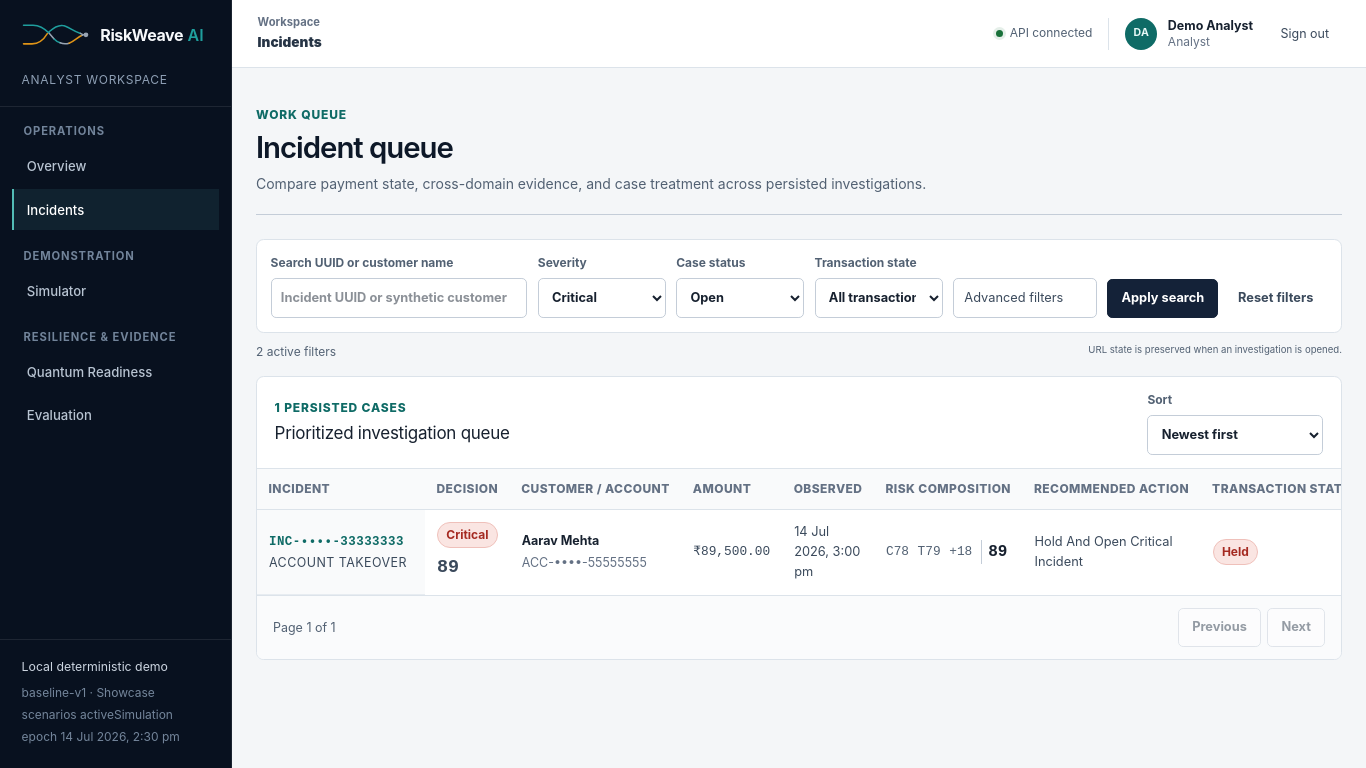
Test: RiskWeave authenticated product › sends incident filters to the server, preserves them in the URL, and opens a direct investigation
Check: the heading "Incident queue" is shown, box [256,130,453,165]
Check: the dropdown labelled "Severity" shows "Critical", box [538,278,666,318]
Click the text "INC-••••-33333333".
click(812, 552)  # box [257,510,1365,594]
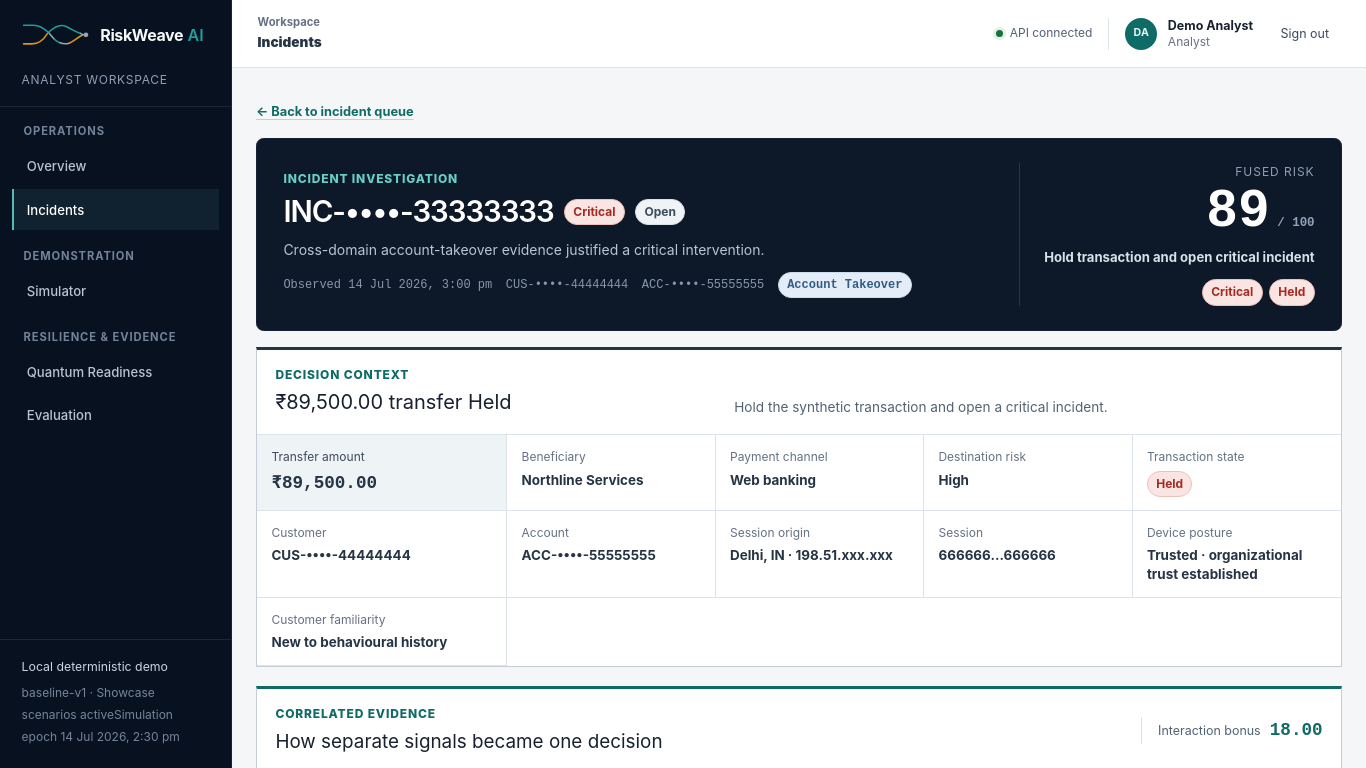
Check: the heading "INC-••••-33333333" is shown, box [283,196,554,228]
